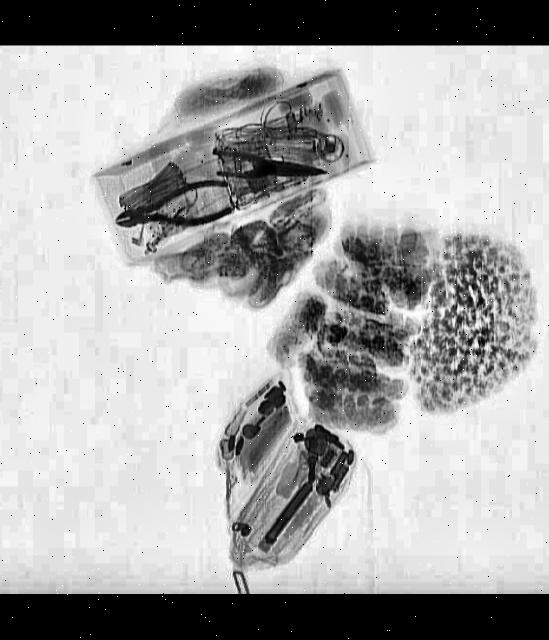Pliers: (108, 176, 234, 243), (208, 150, 326, 189)
